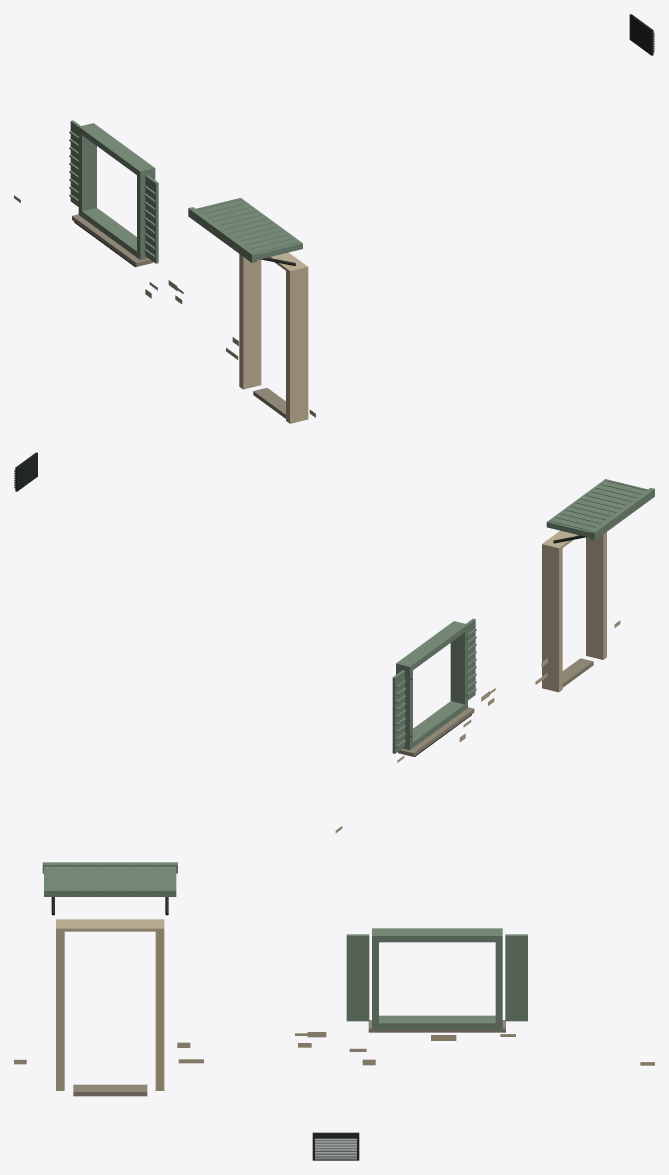
File: SM_Homes_H02_Fixtures.fbx
3 views of the same model, one above another, from view 1: azimuth 30°, elevation 25°; view 2: azimuth 150°, elevation 25°; view 3: azimuth 270°, elevation 25° (orthographic). The views are drawn at different scales.
Visible parts, largest first — view 1: SM_Homes_H02_Fixtures; view 2: SM_Homes_H02_Fixtures; view 3: SM_Homes_H02_Fixtures.
Part boxes in pixels (<box>): SM_Homes_H02_Fixtures: <box>14,14,654,423</box>; SM_Homes_H02_Fixtures: <box>14,452,654,833</box>; SM_Homes_H02_Fixtures: <box>14,862,654,1160</box>.
Bounding box in the file's own units: 8.37 × 8.23 × 2.88.
